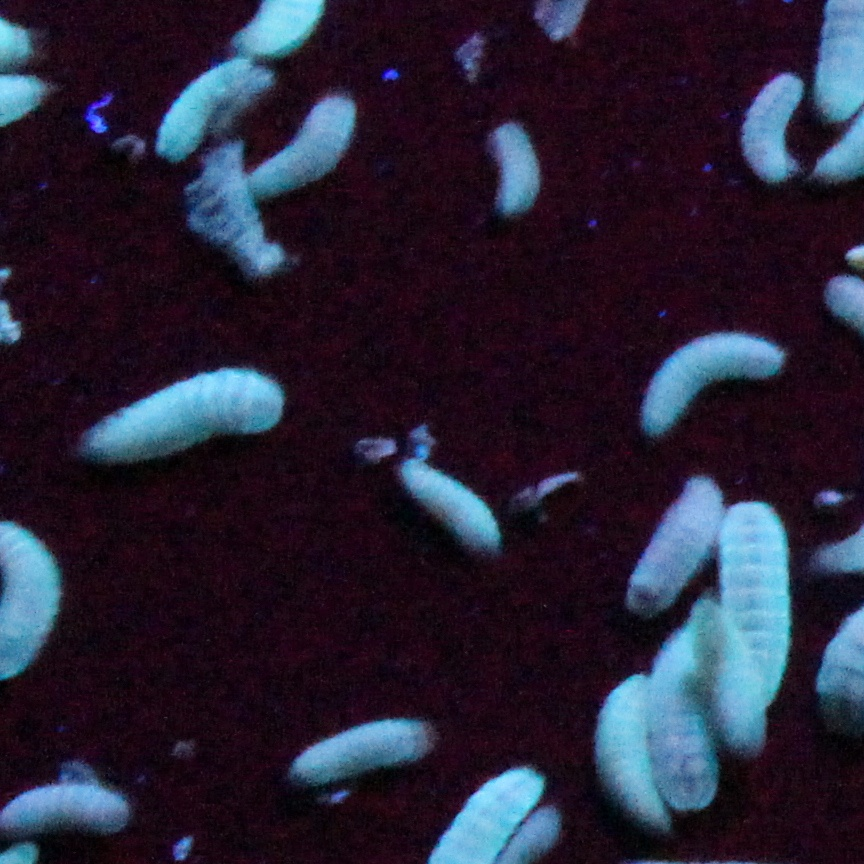larve: (88, 370, 268, 470), (717, 502, 793, 720), (642, 330, 775, 430), (593, 671, 666, 829), (630, 478, 717, 609), (395, 464, 508, 557), (291, 717, 422, 792), (246, 96, 350, 189), (739, 67, 804, 184), (6, 781, 132, 832), (482, 117, 542, 224)
